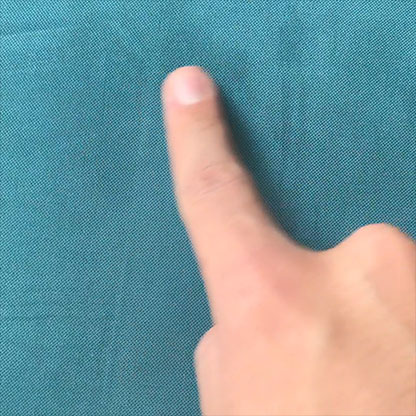fingertip: (148, 58, 231, 120)
